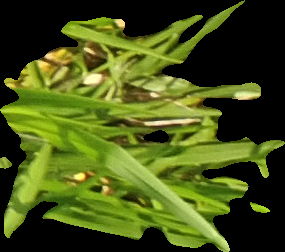grass: (1, 1, 284, 250)
